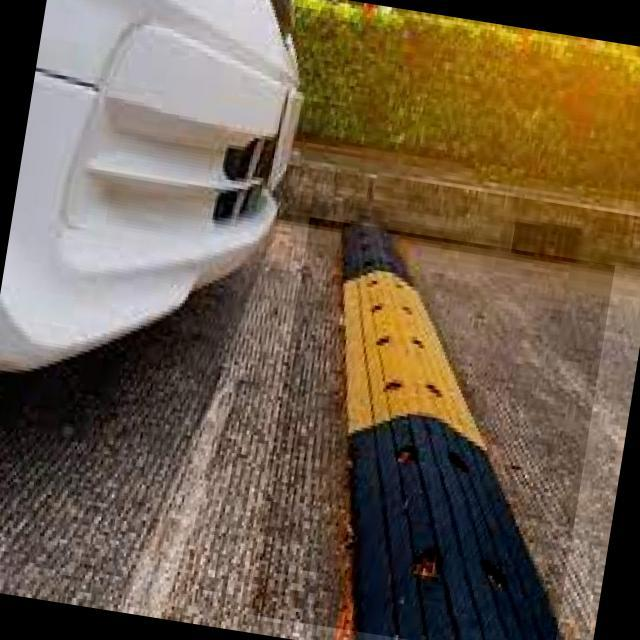speedbreaker: (247, 217, 615, 640)
